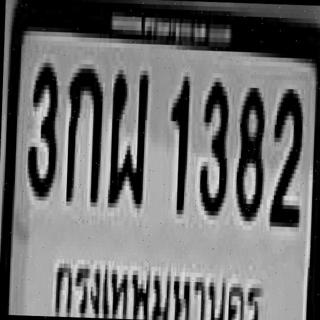A01: (64, 63, 102, 202)
A28: (106, 65, 147, 204)
N01: (166, 71, 188, 210)
N02: (268, 84, 302, 222)
N03: (25, 58, 59, 192), (197, 77, 228, 211)
N08: (234, 83, 264, 217)
P04: (50, 248, 265, 320)
